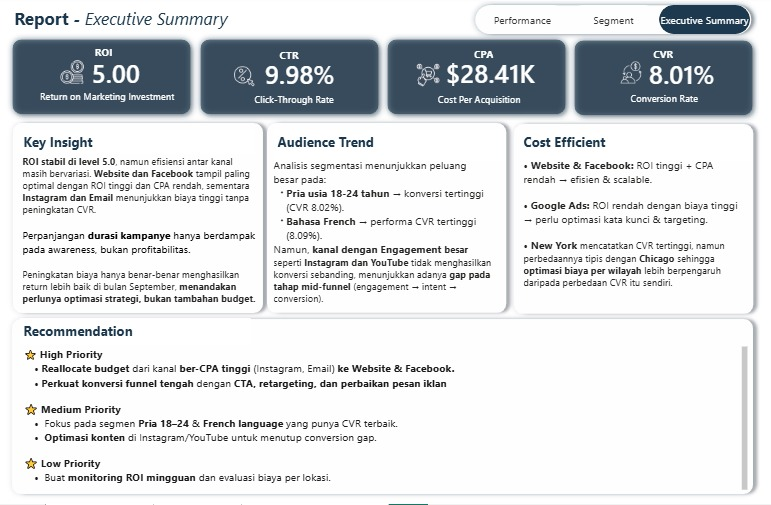

What the dashboard file says about the page in this screenshot:
{"tool":"powerbi","page":{"name":"Executive Summary","canvas":[1280,720],"ordinal":2},"visuals":[{"type":"group","id":"g1","title":"KPI's bg","box":[106.9,52.4,1067.2,125.4],"z":0},{"type":"shape","box":[903.4,53.8,270.7,124],"z":0,"group":"g1"},{"type":"card","title":"KPI''s Card","fields":{"Values":["Avg(marketing_campaign_dataset.ROI)"]},"box":[191.9,75.6,141.6,68.6],"z":0,"group":"g2"},{"type":"card","title":"KPI''s Card","fields":{"Values":["Measures_Table.CPA"]},"box":[715.1,77.9,157.3,62.4],"z":0,"group":"g3"},{"type":"card","title":"KPI''s Card","fields":{"Values":["Avg(marketing_campaign_dataset.Conversion_Rate)"]},"box":[962,78.4,204.1,65.2],"z":0,"group":"g4"},{"type":"shape","title":"KPI''s Title","box":[390.7,122.9,247.4,44.3],"z":0,"group":"g5"},{"type":"shape","box":[638.4,52.4,270.7,124],"z":1000,"group":"g1"},{"type":"group","id":"g2","title":"KPI ROI","box":[126.1,57,247.4,107.4],"z":1000},{"type":"shape","title":"KPI''s Title","box":[209,57,70.1,44.3],"z":1000,"group":"g2"},{"type":"shape","title":"KPI''s Title","box":[736.8,62.3,93,38.6],"z":1000,"group":"g3"},{"type":"shape","title":"KPI''s Title","box":[997.1,62.8,80.1,38.6],"z":1000,"group":"g4"},{"type":"card","title":"KPI''s Card","fields":{"Values":["Measures_Table.CTR"]},"box":[456.9,82.1,130.1,57.2],"z":1000,"group":"g5"},{"type":"shape","title":"KPI''s Title","box":[126.1,120,247.4,44.3],"z":1500,"group":"g2"},{"type":"shape","box":[106.9,52.4,270.7,124],"z":2000,"group":"g1"},{"type":"group","id":"g3","title":"KPI CPA","box":[653.9,62.3,247.4,104.9],"z":2000},{"type":"shape","title":"KPI''s Title","box":[467.9,63.5,80.1,38.6],"z":2000,"group":"g5"},{"type":"image","box":[683.9,90.8,42.7,42.7],"z":2000,"group":"g3"},{"type":"shape","title":"KPI''s Title","box":[915.6,122.9,247.4,44.3],"z":2500,"group":"g4"},{"type":"shape","box":[373.4,52.4,270.7,124],"z":3000,"group":"g1"},{"type":"group","id":"g4","title":"KPI CVR","box":[915.6,62.8,250.5,104.4],"z":3000},{"type":"image","box":[179,85.6,42.9,44.3],"z":3000,"group":"g2"},{"type":"image","box":[970.6,88.6,42.9,41.5],"z":3000,"group":"g4"},{"type":"shape","title":"KPI''s Title","box":[653.9,122.8,247.4,44.3],"z":3500,"group":"g3"},{"type":"group","id":"g5","title":"KPI CTR","box":[390.7,63.5,247.4,103.7],"z":4000},{"type":"image","box":[422.5,92.1,42.9,42.9],"z":4000,"group":"g5"},{"type":"shape","box":[106.3,170.1,374.2,289.1],"z":5000},{"type":"shape","box":[465.6,170.1,359,289],"z":6000},{"type":"shape","box":[815.7,171.9,359,289],"z":7000},{"type":"shape","box":[104.9,447.9,1070.1,267.9],"z":8000},{"type":"textbox","box":[126.1,188.5,331.7,35.4],"z":9000},{"type":"textbox","box":[834.3,189.1,327.5,45.8],"z":10000},{"type":"textbox","box":[485.7,188.7,324.6,45.8],"z":11000},{"type":"textbox","box":[126.1,457,327.4,38.3],"z":12000},{"type":"textbox","title":"Title","box":[106.3,9.9,650.6,53.9],"z":13000},{"type":"textbox","box":[124.7,221,343,248],"z":14000},{"type":"textbox","box":[480.5,223.9,321.7,259.4],"z":15000},{"type":"textbox","box":[834.8,223.9,327.4,259.4],"z":16000},{"type":"textbox","box":[126.1,492,1036.1,225.4],"z":17000},{"type":"shape","box":[761.9,4.1,409,58.6],"z":18000},{"type":"pageNavigator","box":[773.9,13.1,387.6,41.5],"z":19000}]}

Visuals, with their boxes on the page's 1280x720 design canvas (x1, y1, x2, y2). These are canvas units, not pixel positions in the 771x505 screenshot, which may show the page scaled, cropped or inside an application window:
"KPI's bg" group: x1=107 y1=52 x2=1174 y2=178
shape: x1=903 y1=54 x2=1174 y2=178
"KPI''s Card" card: x1=192 y1=76 x2=334 y2=144
"KPI''s Card" card: x1=715 y1=78 x2=872 y2=140
"KPI''s Card" card: x1=962 y1=78 x2=1166 y2=144
"KPI''s Title" shape: x1=391 y1=123 x2=638 y2=167
shape: x1=638 y1=52 x2=909 y2=176
"KPI ROI" group: x1=126 y1=57 x2=374 y2=164
"KPI''s Title" shape: x1=209 y1=57 x2=279 y2=101
"KPI''s Title" shape: x1=737 y1=62 x2=830 y2=101
"KPI''s Title" shape: x1=997 y1=63 x2=1077 y2=101
"KPI''s Card" card: x1=457 y1=82 x2=587 y2=139
"KPI''s Title" shape: x1=126 y1=120 x2=374 y2=164
shape: x1=107 y1=52 x2=378 y2=176
"KPI CPA" group: x1=654 y1=62 x2=901 y2=167
"KPI''s Title" shape: x1=468 y1=64 x2=548 y2=102
image: x1=684 y1=91 x2=727 y2=134
"KPI''s Title" shape: x1=916 y1=123 x2=1163 y2=167
shape: x1=373 y1=52 x2=644 y2=176
"KPI CVR" group: x1=916 y1=63 x2=1166 y2=167
image: x1=179 y1=86 x2=222 y2=130
image: x1=971 y1=89 x2=1014 y2=130
"KPI''s Title" shape: x1=654 y1=123 x2=901 y2=167
"KPI CTR" group: x1=391 y1=64 x2=638 y2=167
image: x1=422 y1=92 x2=465 y2=135
shape: x1=106 y1=170 x2=480 y2=459
shape: x1=466 y1=170 x2=825 y2=459
shape: x1=816 y1=172 x2=1175 y2=461
shape: x1=105 y1=448 x2=1175 y2=716
textbox: x1=126 y1=188 x2=458 y2=224
textbox: x1=834 y1=189 x2=1162 y2=235
textbox: x1=486 y1=189 x2=810 y2=234
textbox: x1=126 y1=457 x2=454 y2=495
"Title" textbox: x1=106 y1=10 x2=757 y2=64
textbox: x1=125 y1=221 x2=468 y2=469
textbox: x1=480 y1=224 x2=802 y2=483
textbox: x1=835 y1=224 x2=1162 y2=483
textbox: x1=126 y1=492 x2=1162 y2=717
shape: x1=762 y1=4 x2=1171 y2=63
pageNavigator: x1=774 y1=13 x2=1162 y2=55
